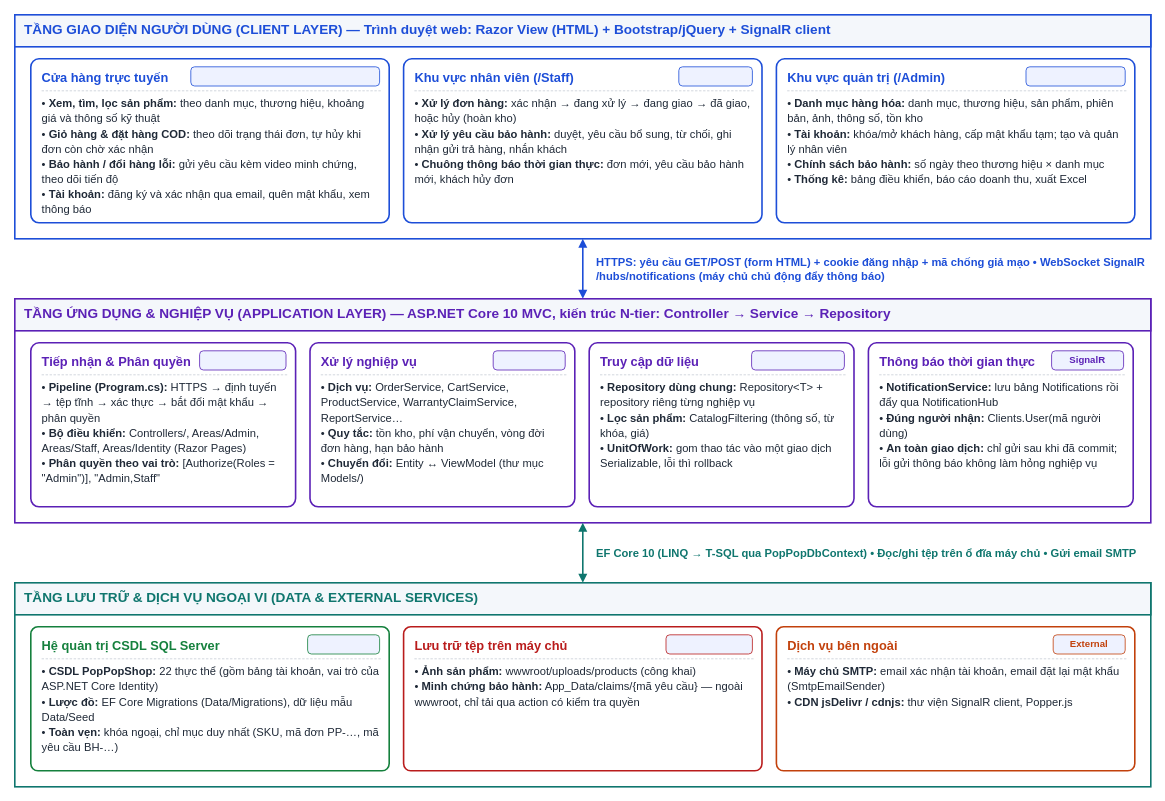
Image size: 1165x801. Some labels were removed from this diagram. The box of each missing label's shape, as (x1, y1, x2, y2) in pixels:
Controllers: (199, 350, 286, 370)
File system: (665, 634, 752, 654)
Khách vãng lai / Khách hàng: (190, 66, 380, 86)
Nhân viên: (678, 66, 752, 86)
Quản trị viên: (1025, 66, 1125, 86)
RDBMS: (307, 634, 380, 654)
Repositories: (751, 350, 844, 370)
Services: (492, 350, 565, 370)
